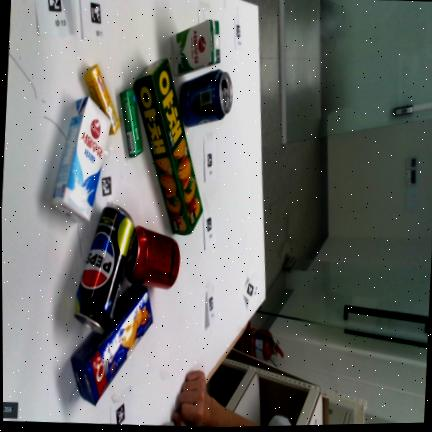can_coke_zero: (125, 226, 180, 289)
can_pepsi: (180, 70, 232, 127)
can_pepsi_zero: (75, 205, 135, 332)
cracker_ace: (71, 285, 152, 404)
cracker_vege: (134, 59, 202, 235)
gum_green: (120, 88, 143, 157)
gum_yellow: (84, 65, 120, 134)
milk_blue: (52, 96, 110, 221)
milk_green: (171, 21, 222, 74)
